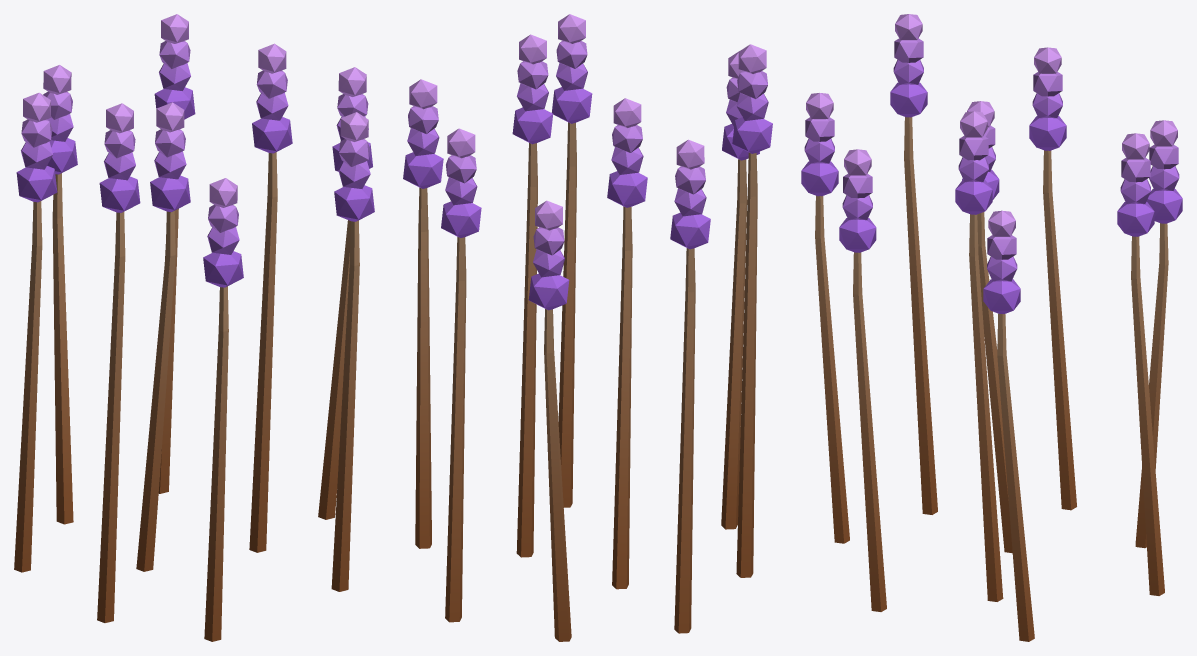
Rendered from flowers brown.fbx.
3 views of the same model, side by side, from view 1: azimuth 30°, elevation 25°; view 2: azimuth 150°, elevation 25°; view 3: azimuth 270°, elevation 25° (orthographic). The views are drawn at different scales.
Visible parts, largest first — view 1: flowers brown; view 2: flowers brown; view 3: flowers brown.
Boxes of the visible parts, x1,y1,x2,y2 form: flowers brown: [14, 14, 374, 641]; flowers brown: [403, 14, 772, 641]; flowers brown: [801, 14, 1182, 641].
Bounding box in the file's own units: 129 × 197 × 136.
